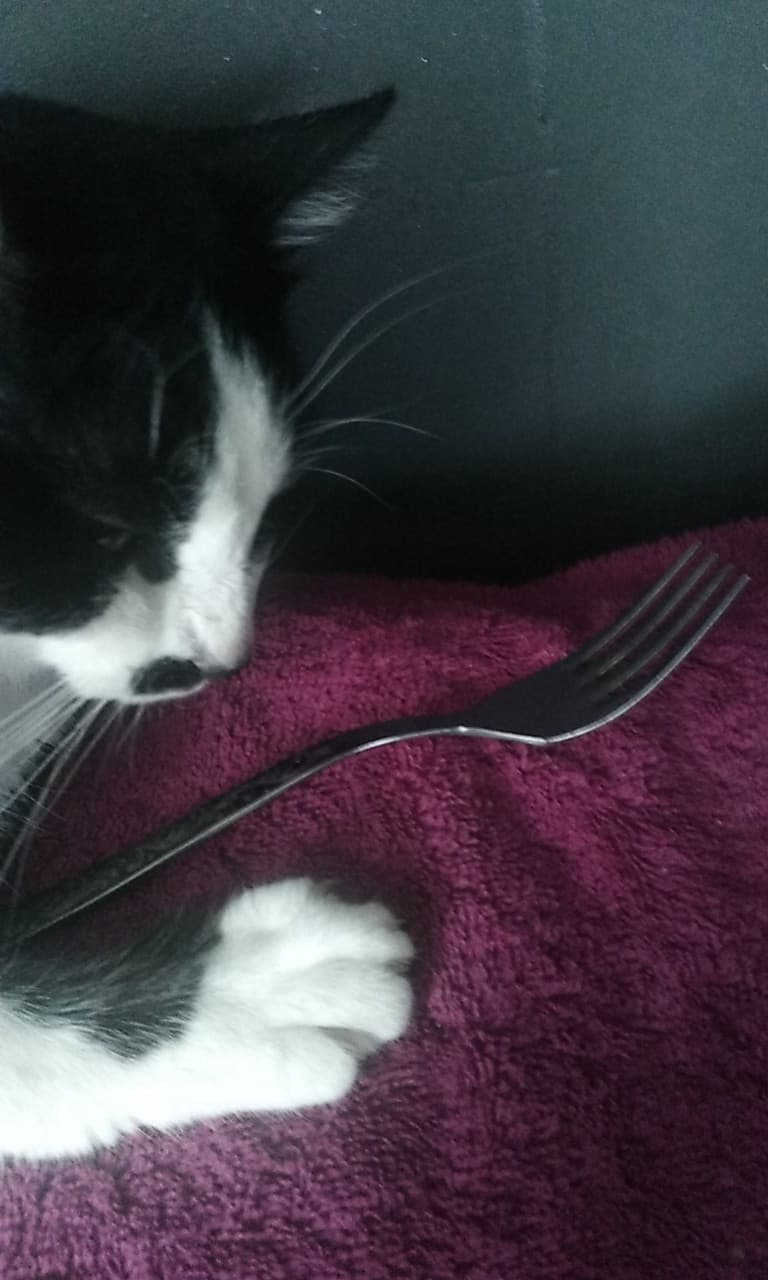Widelec: (451, 546, 759, 765)
